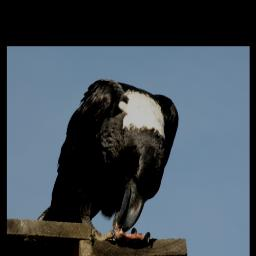Crow: (36, 75, 181, 246)
